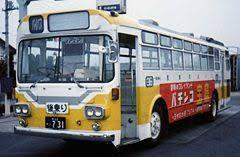bus: (16, 9, 228, 148)
